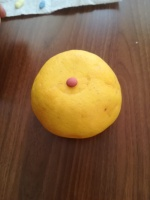Dolorex: (66, 77, 78, 87)
